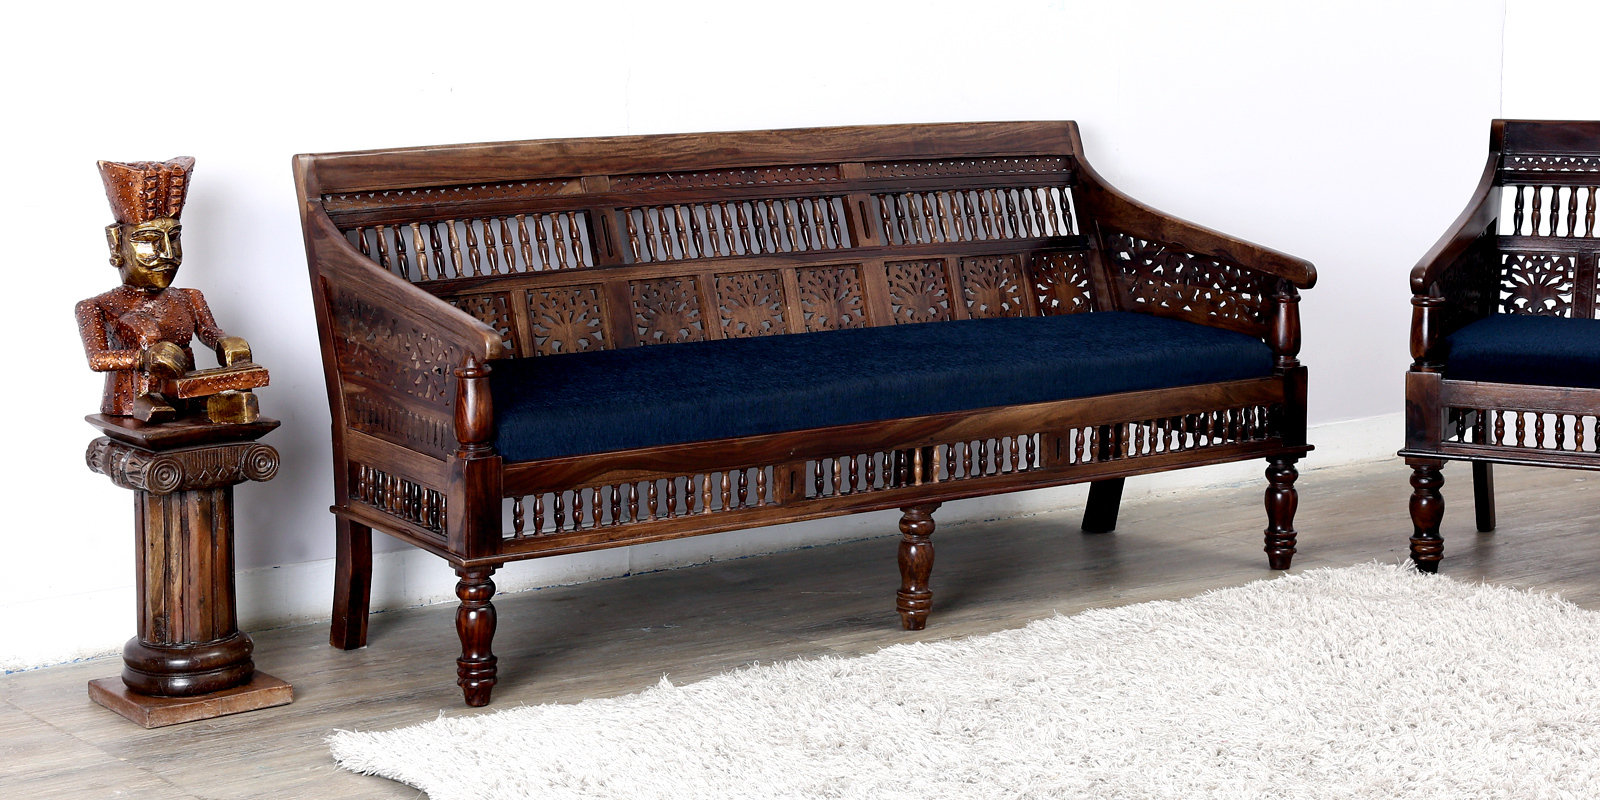Maurya Handcrafted Three Seater Sofa in Provincial Teak Finish by Mudramark: (292, 119, 1316, 707)
